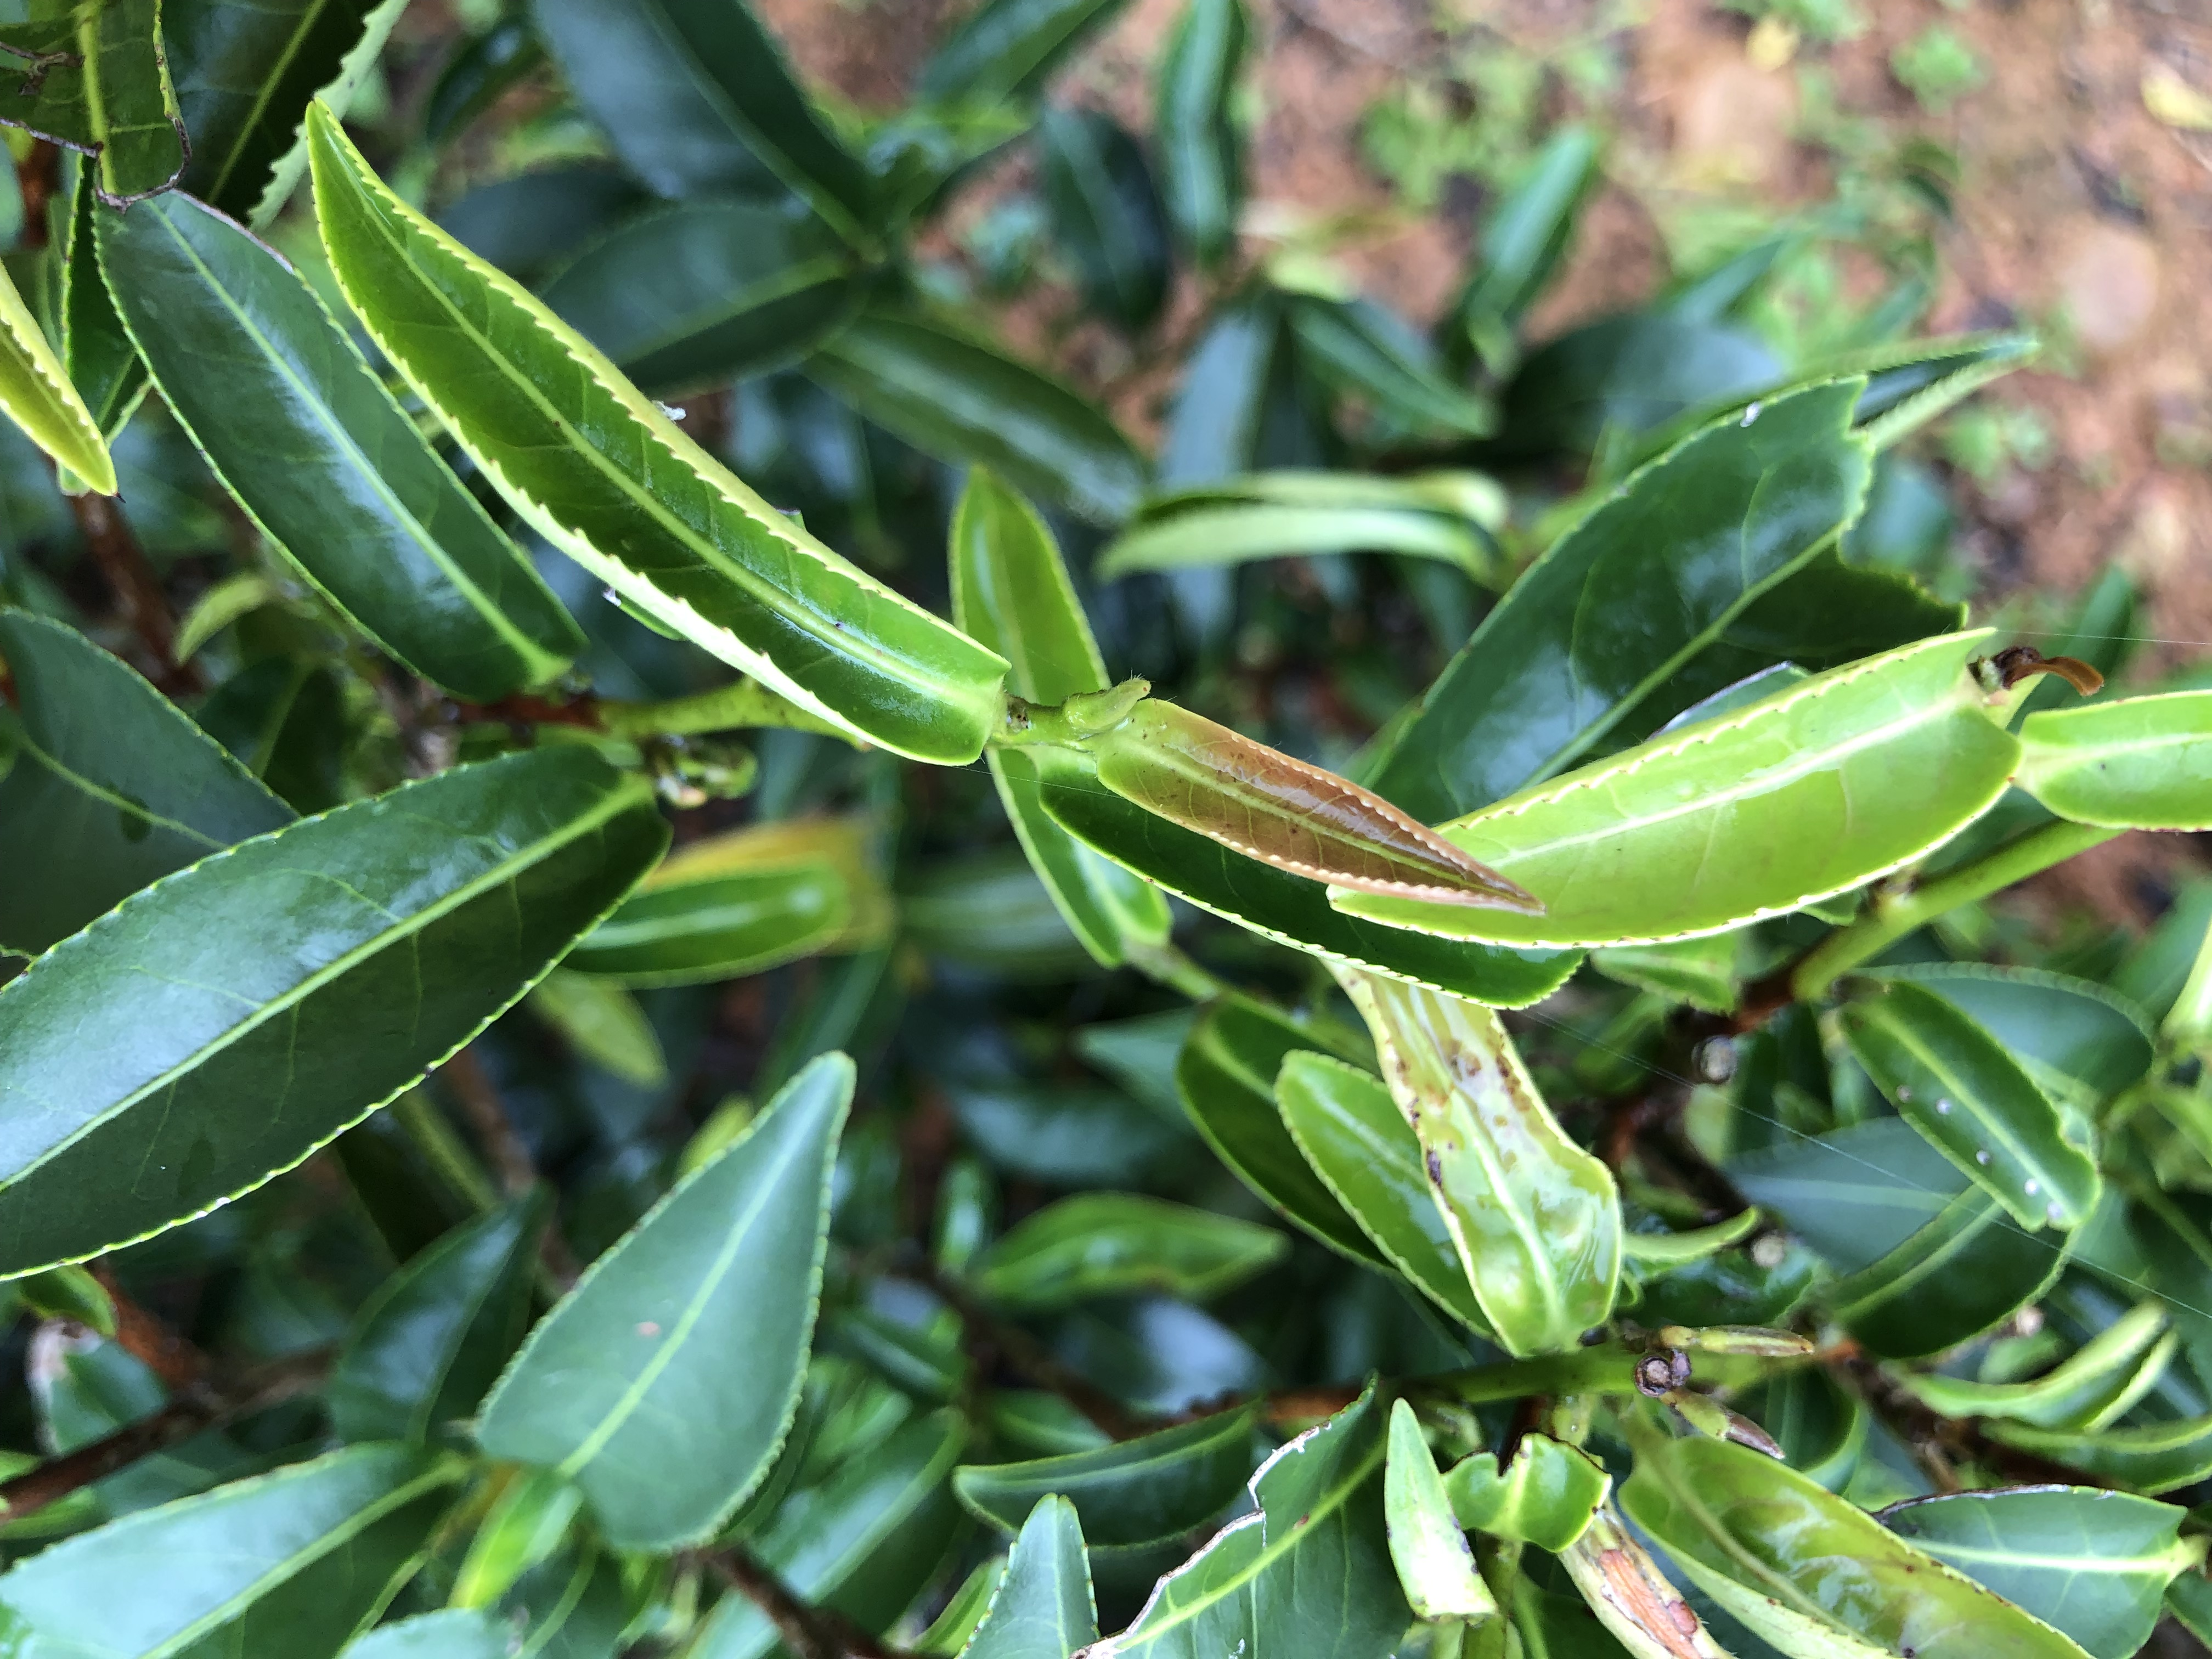tetrany: (1069, 681, 1559, 931)
